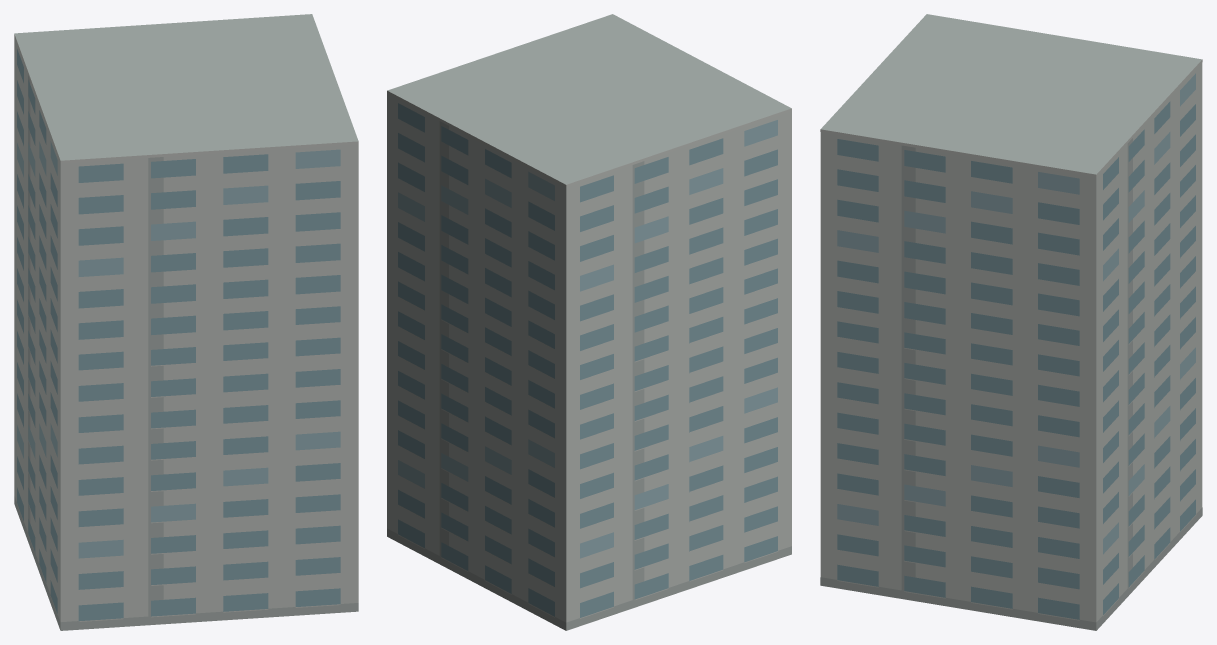
File: residential-4cd6a81f-6e9b-4578-9c6f-4c12c7dcc308.glb
3 views of the same model, side by side, from view 1: azimuth 30°, elevation 25°; view 2: azimuth 150°, elevation 25°; view 3: azimuth 270°, elevation 25° (orthographic). The views are drawn at different scales.
Parts seen in each view (by area): view 1: residential-4cd6a81f-6e9b-4578-9c6f-4c12c7dcc308.tmp; view 2: residential-4cd6a81f-6e9b-4578-9c6f-4c12c7dcc308.tmp; view 3: residential-4cd6a81f-6e9b-4578-9c6f-4c12c7dcc308.tmp.
Part boxes in pixels (bbox=[...]): residential-4cd6a81f-6e9b-4578-9c6f-4c12c7dcc308.tmp: bbox=[14, 14, 358, 630]; residential-4cd6a81f-6e9b-4578-9c6f-4c12c7dcc308.tmp: bbox=[387, 14, 791, 630]; residential-4cd6a81f-6e9b-4578-9c6f-4c12c7dcc308.tmp: bbox=[820, 14, 1202, 630].
Size of the model in its own units: 30.2 by 40 by 30.36.
